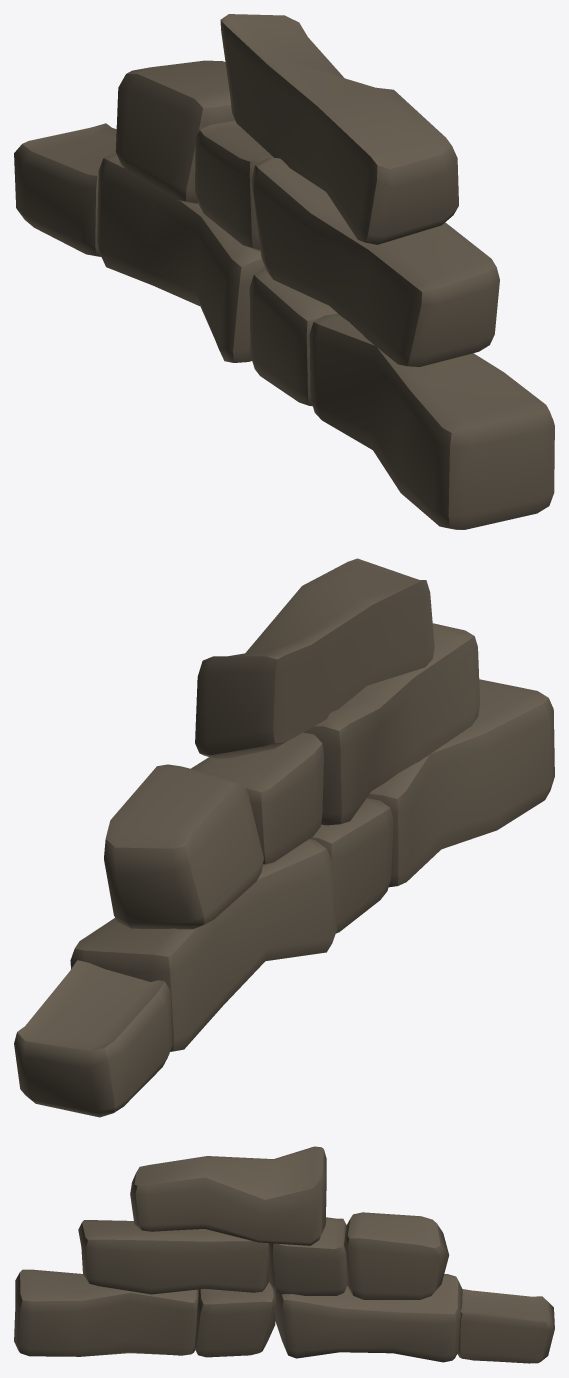
File: Destroyed Wall 4.fbx
3 renders of one model, top to bottom at view 1: azimuth 30°, elevation 25°; view 2: azimuth 150°, elevation 25°; view 3: azimuth 270°, elevation 25°, orthographic. The views are drawn at different scales.
Visible parts, largest first — view 1: polySurface1589; view 2: polySurface1589; view 3: polySurface1589.
Boxes of the visible parts, <box> form: polySurface1589: <box>14,14,554,529</box>; polySurface1589: <box>14,558,554,1117</box>; polySurface1589: <box>14,1146,554,1363</box>.
Bounding box in the file's own units: 2.69 × 6.35 × 15.48.
